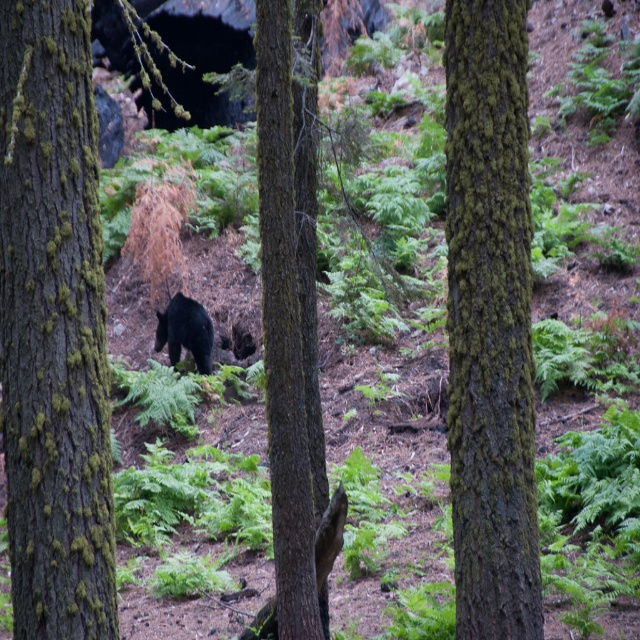Bear: (155, 295, 216, 376)
